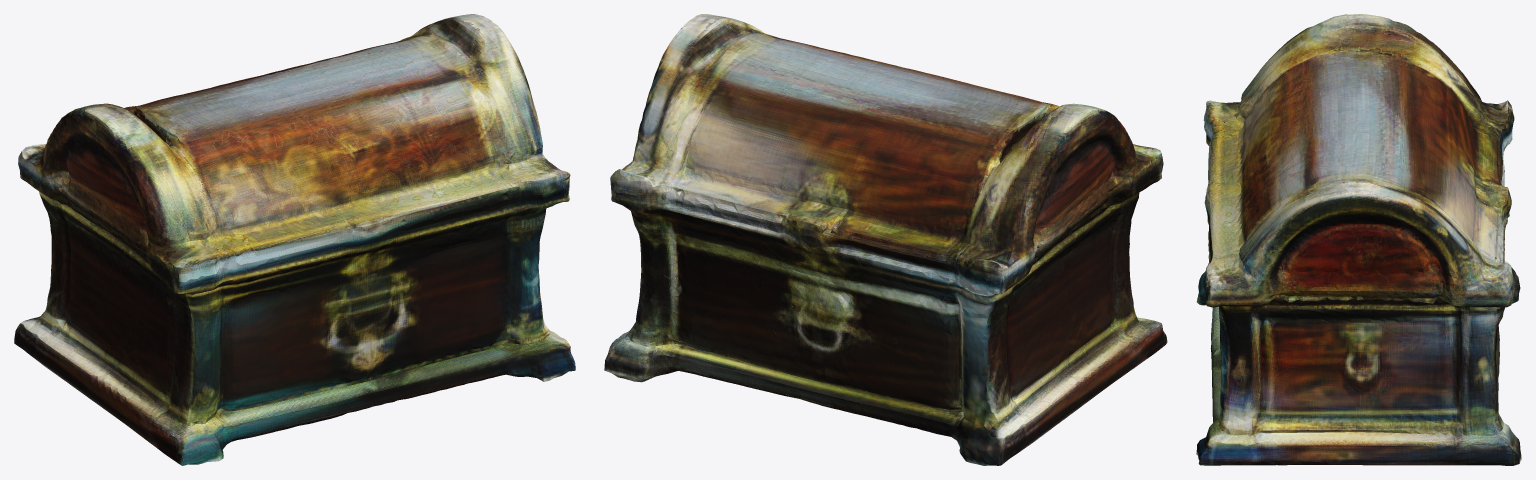
Rendered from a wooden chest with golden trim.glb.
3 views of the same model, side by side, from view 1: azimuth 30°, elevation 25°; view 2: azimuth 150°, elevation 25°; view 3: azimuth 270°, elevation 25° (orthographic). The views are drawn at different scales.
Bounding box in the file's own units: 0.998 × 0.7024 × 0.7453.
1 material, 1 textured.
